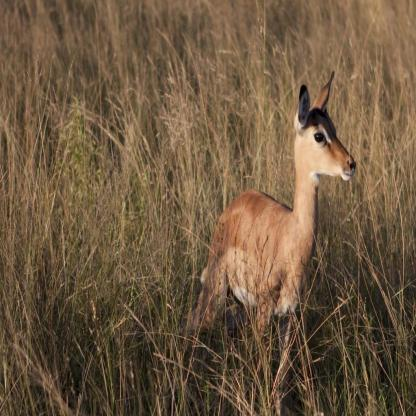Deer: (189, 65, 358, 416)
